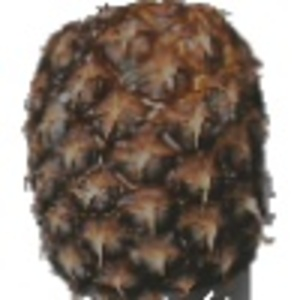abacaxi: (19, 2, 275, 294)
